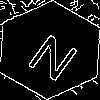N: (25, 25, 87, 83)
